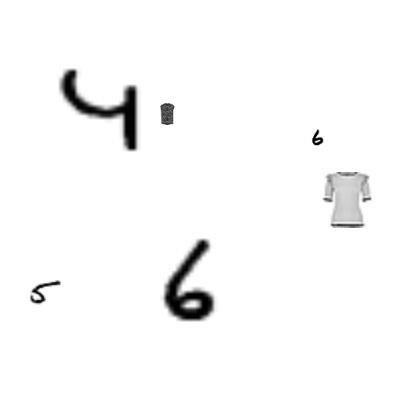4: (48, 50, 160, 162)
5: (20, 270, 62, 312)
6: (129, 232, 241, 344), (306, 128, 328, 150)
Pullover: (319, 172, 375, 228)
Shirt: (156, 103, 178, 125)
